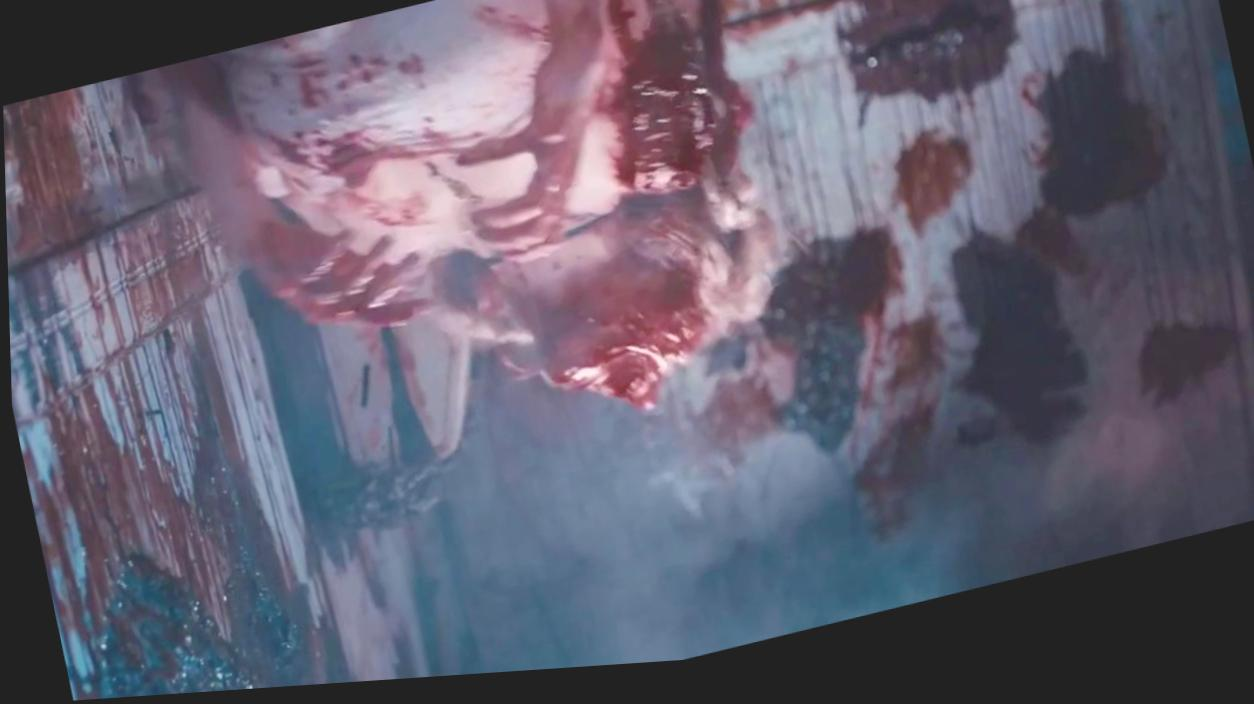Fire: (2, 0, 1254, 701)
